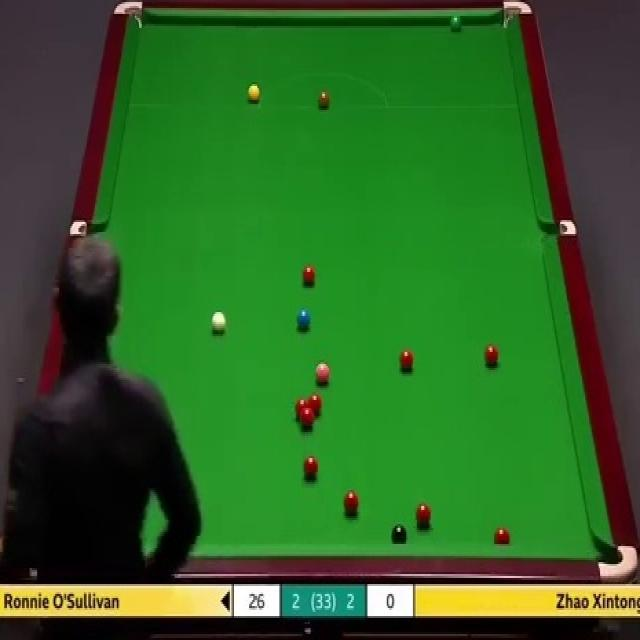black-ball: (392, 523, 408, 545)
blue-ball: (296, 306, 310, 327)
brown-ball: (318, 88, 330, 108)
green-ball: (450, 11, 463, 30)
pink-ball: (314, 360, 334, 385)
red-ball: (303, 451, 320, 480), (398, 346, 415, 373), (344, 489, 360, 517), (415, 504, 432, 530), (484, 344, 498, 369), (492, 525, 511, 543), (294, 398, 308, 422), (309, 393, 322, 418), (300, 411, 316, 430), (303, 263, 316, 286)
white-ball: (210, 310, 227, 337)
yellow-ball: (247, 86, 259, 102)
